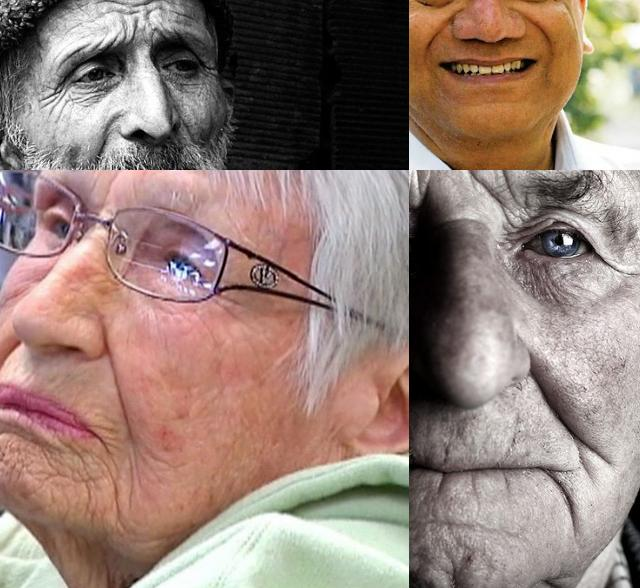chin: (52, 452, 108, 509), (416, 511, 500, 537), (0, 441, 25, 483), (443, 561, 467, 588)
crows_feet: (43, 76, 69, 116), (600, 250, 624, 282), (198, 56, 216, 84)
forehead: (133, 0, 167, 18), (105, 25, 136, 44), (94, 0, 130, 14)
frown_line: (459, 170, 523, 208), (409, 170, 432, 210), (99, 170, 119, 215)
gummy_smile: (530, 363, 586, 439), (102, 356, 138, 438), (89, 120, 111, 160), (0, 337, 20, 375), (420, 22, 440, 56), (531, 18, 555, 42)
sad_smile: (546, 470, 584, 536), (104, 472, 128, 528)
smoker_lines: (409, 421, 423, 455)
